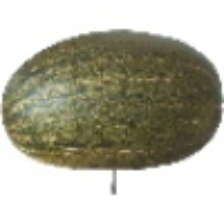honeydew: (63, 0, 203, 189)
